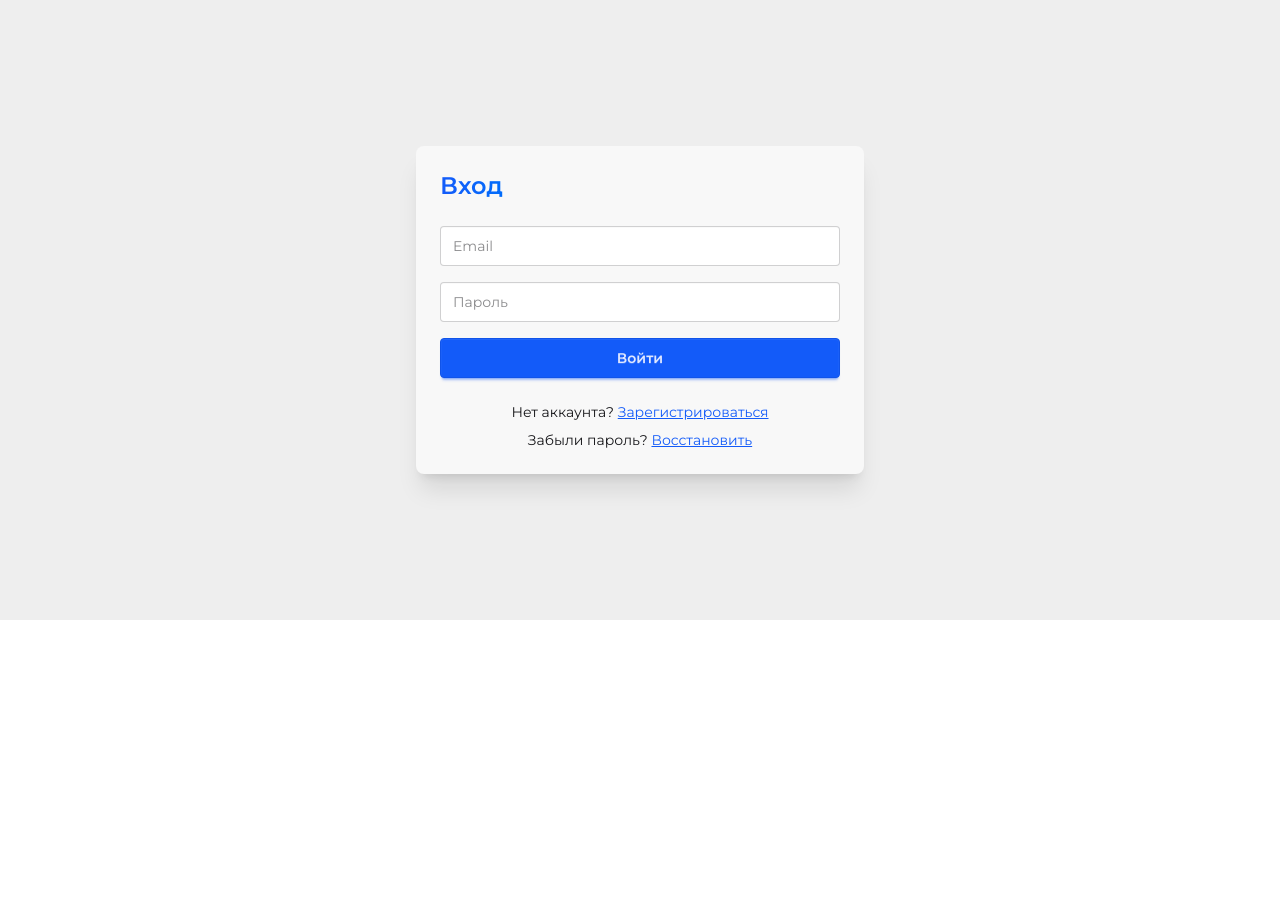
LoginPage › показывает ошибки валидации при пустой отправке
The image size is (1280, 900).
Click the button "Войти" at (640, 358), box [440,338,840,378]
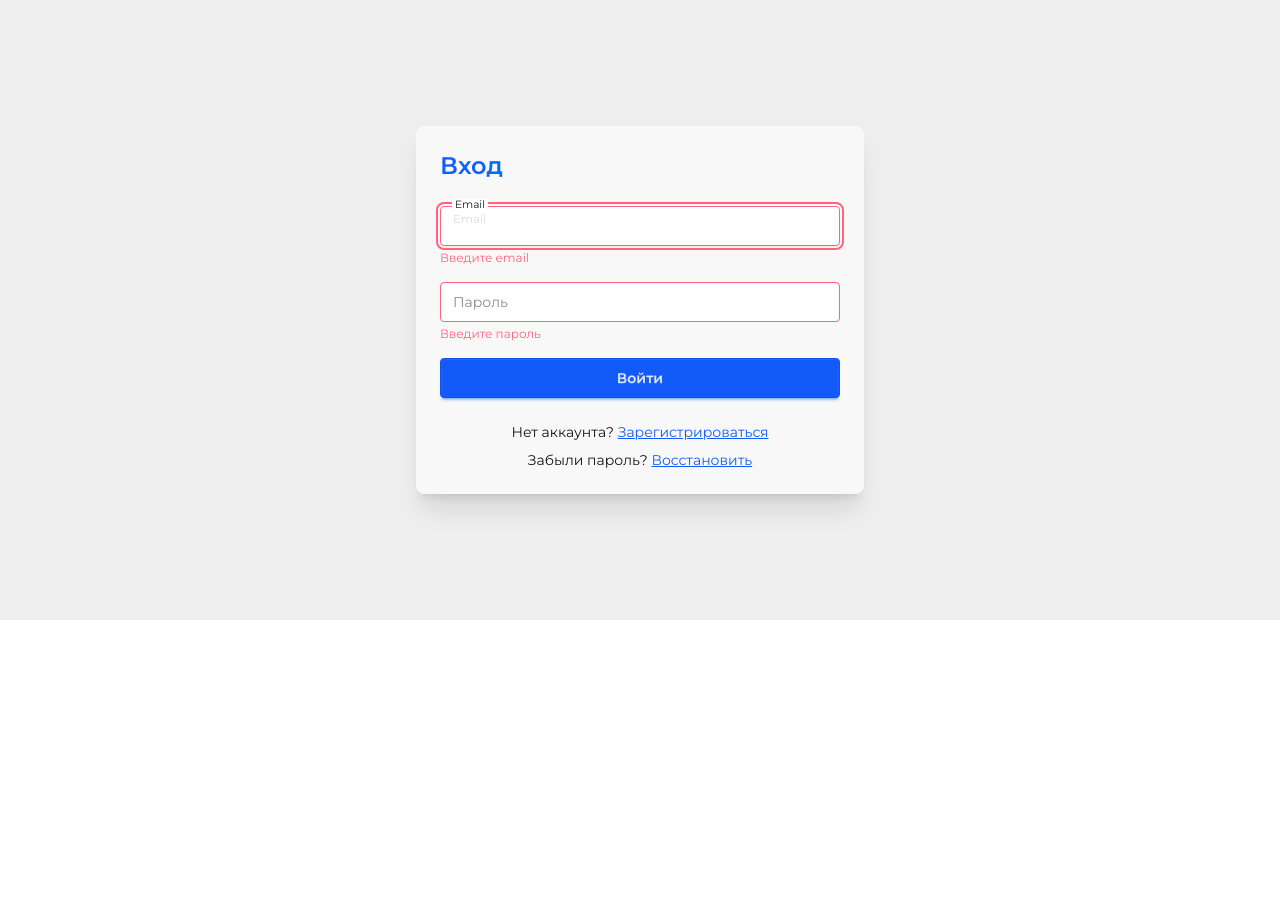
Expected: the text "Введите email" is shown, [440,250,529,265]
Expected: the text "Введите пароль" is shown, [440,326,541,341]
